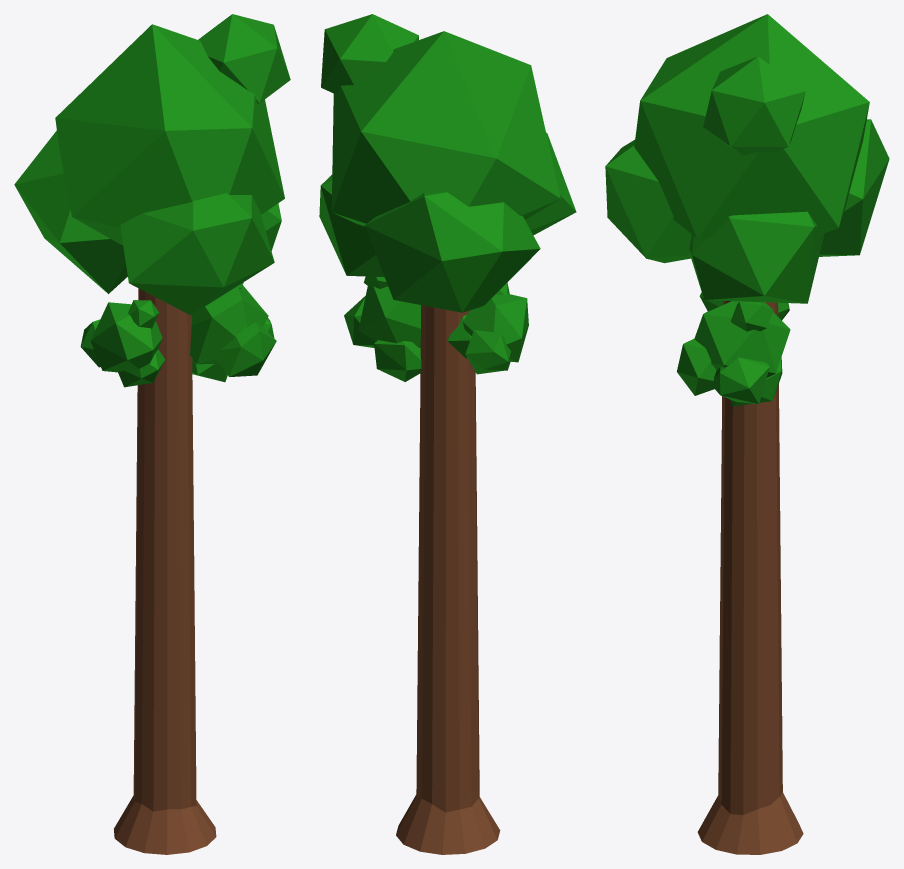
Rendered from LowPolyTree7Large.fbx.
The picture shows the model from 3 angles, left to right: view 1: azimuth 30°, elevation 25°; view 2: azimuth 150°, elevation 25°; view 3: azimuth 270°, elevation 25°; orthographic projection.
Parts seen in each view (by area): view 1: Leaves, Tree7, Leaves.002, Leaves.001; view 2: Leaves, Tree7, Leaves.002, Leaves.001; view 3: Leaves, Tree7, Leaves.002.
Boxes of the visible parts, x1,y1,x2,y2 form: Leaves: (14,14,290,315); Tree7: (114,288,216,854); Leaves.002: (190,282,276,382); Leaves.001: (80,300,164,387); Leaves: (319,14,576,312); Tree7: (396,305,500,854); Leaves.002: (344,276,421,381); Leaves.001: (447,282,528,374); Leaves: (605,14,889,303); Tree7: (697,300,803,854); Leaves.002: (677,301,790,406).
Bounding box in the file's own units: 2181 × 7498 × 2365.
